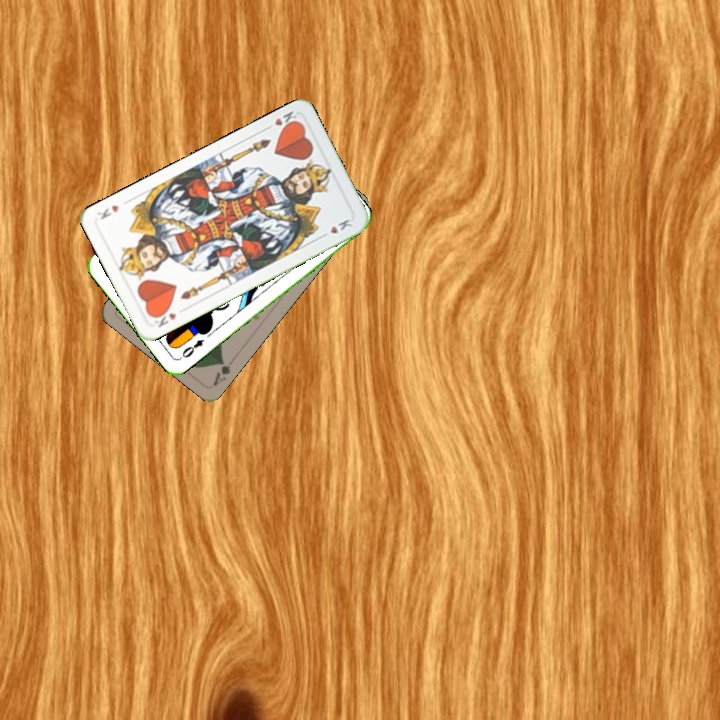EO: (175, 335, 207, 362)
GA: (209, 356, 233, 389)
HK: (261, 107, 301, 133), (149, 305, 179, 330)
